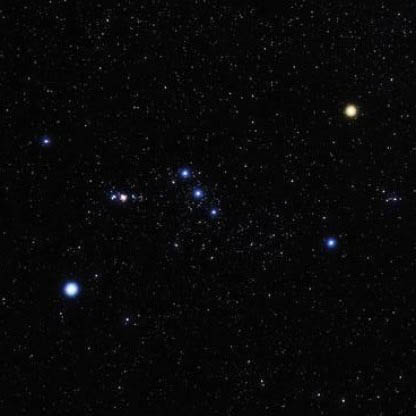Orion: (52, 262, 90, 307), (344, 96, 376, 127), (197, 203, 223, 223), (35, 130, 57, 152), (318, 233, 341, 254), (184, 186, 211, 203), (171, 166, 197, 182)
